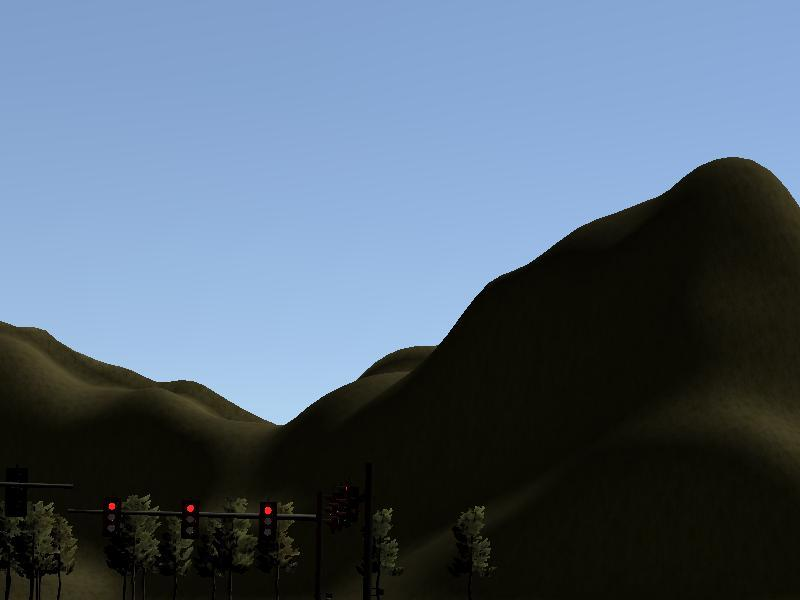Red: (259, 503, 276, 540), (106, 499, 119, 535), (183, 501, 196, 535)
